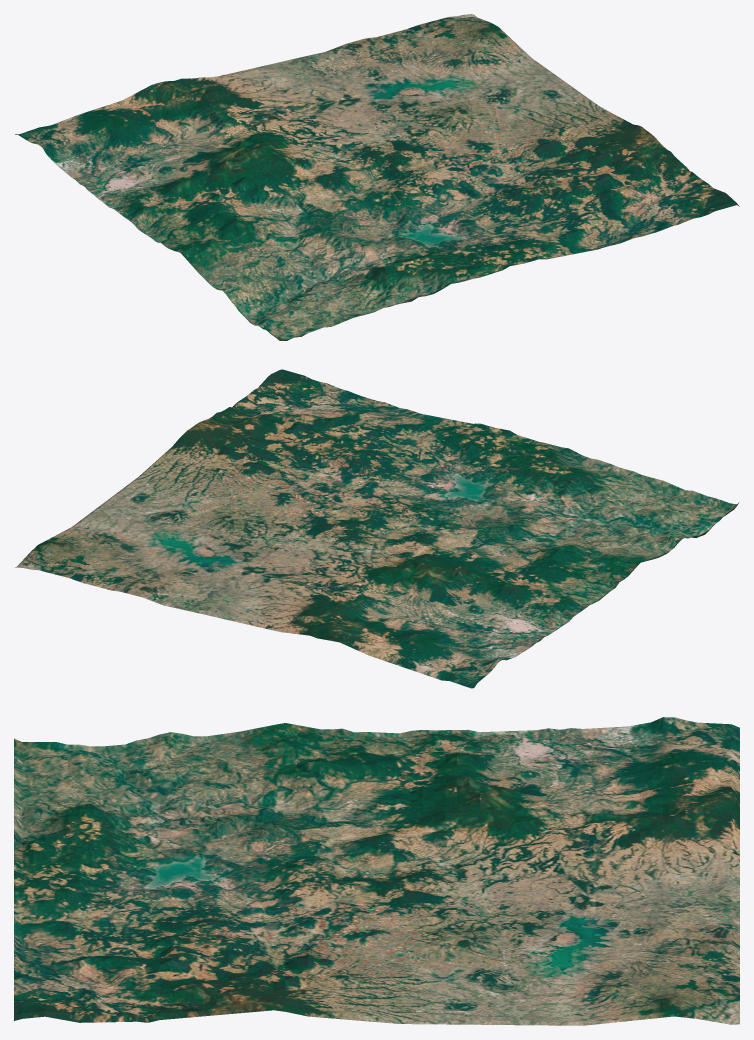
File: Mapa_3D.glb
The picture shows the model from 3 angles, top to bottom: view 1: azimuth 30°, elevation 25°; view 2: azimuth 150°, elevation 25°; view 3: azimuth 270°, elevation 25°; orthographic projection. The views are drawn at different scales.
Visible parts, largest first — view 1: Cube; view 2: Cube; view 3: Cube.
Boxes of the visible parts, x1,y1,x2,y2 form: Cube: (15,14,739,340); Cube: (15,369,739,688); Cube: (14,717,739,1025).
Size of the model in its own units: 14.12 by 1.16 by 14.12.
1 material, 1 textured.
